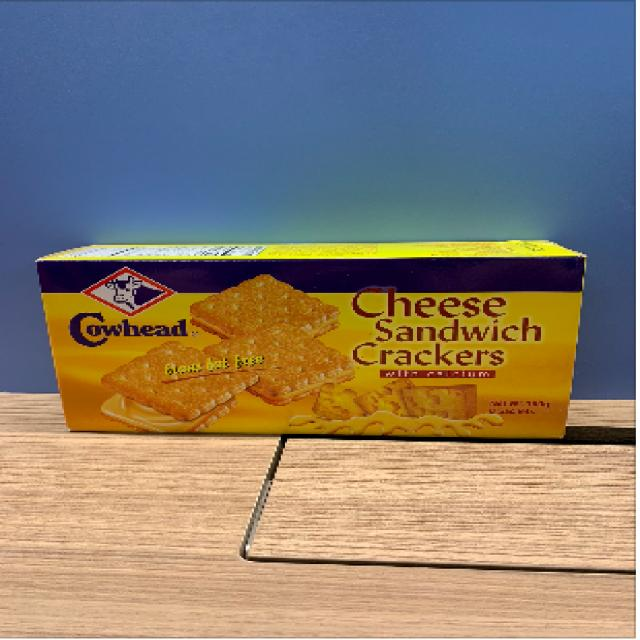object_name: (47, 249, 558, 441)
